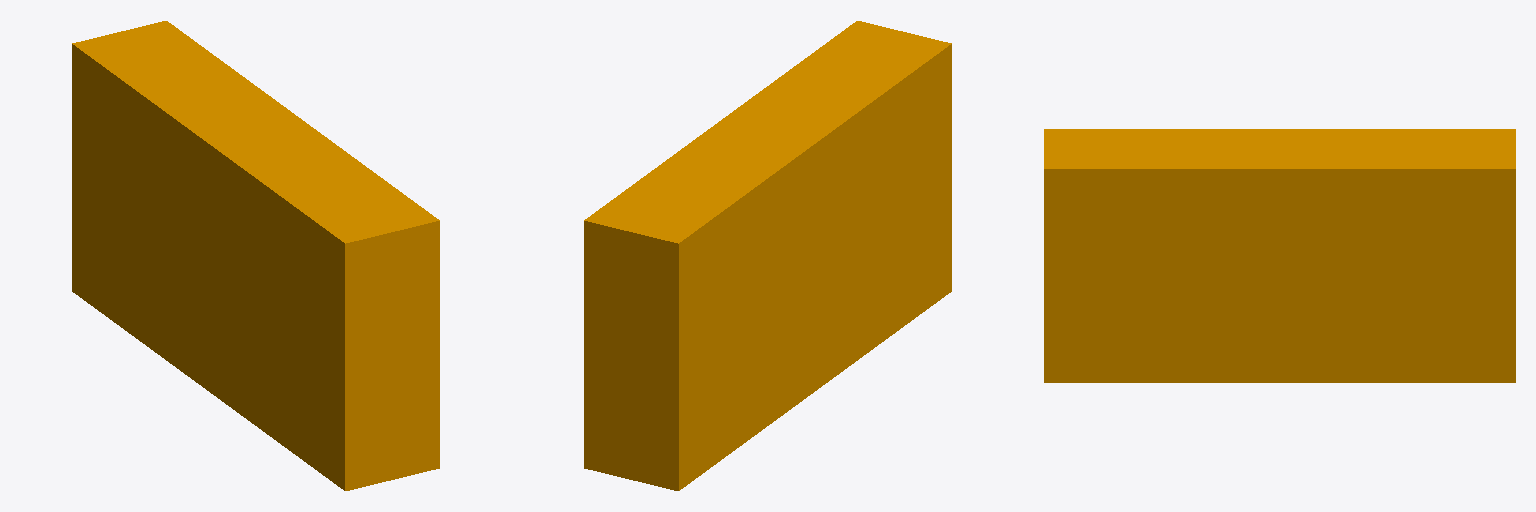
The robot description file, URDF, robot "cuboid":
<?xml version="1.0"?>
<robot name="cuboid">
  <link name="base_link">

    <collision>
      <geometry>
        <box size="2 10 5"/>
      </geometry>
    </collision>

    <inertial>
      <mass value="2"/>
    	<inertia ixx="0.333" ixy="0" ixz="0" iyy="0.833" iyz="0" izz="0.833"/>
  	</inertial>

    <visual>
      <geometry>
        <box size="2 10 5"/>
      </geometry>
    </visual>

  </link>
</robot>

--- Facts derived from the render (not from the file) ---
The picture shows the robot from 3 angles, left to right: view 1: azimuth 30°, elevation 25°; view 2: azimuth 150°, elevation 25°; view 3: azimuth 270°, elevation 25°; orthographic projection.
Model cuboid with 1 links and 0 joints (none), rooted at base_link, posed every joint at zero.
Links seen in each view (by area): view 1: base_link; view 2: base_link; view 3: base_link.
Link boxes in pixels (bbox=[...]): base_link: bbox=[72, 21, 439, 490]; base_link: bbox=[584, 21, 951, 490]; base_link: bbox=[1044, 129, 1515, 382].
Size in the robot's own frame: 2 by 10 by 5 metres.
Geometry: primitives only (box / cylinder / sphere), no mesh files.